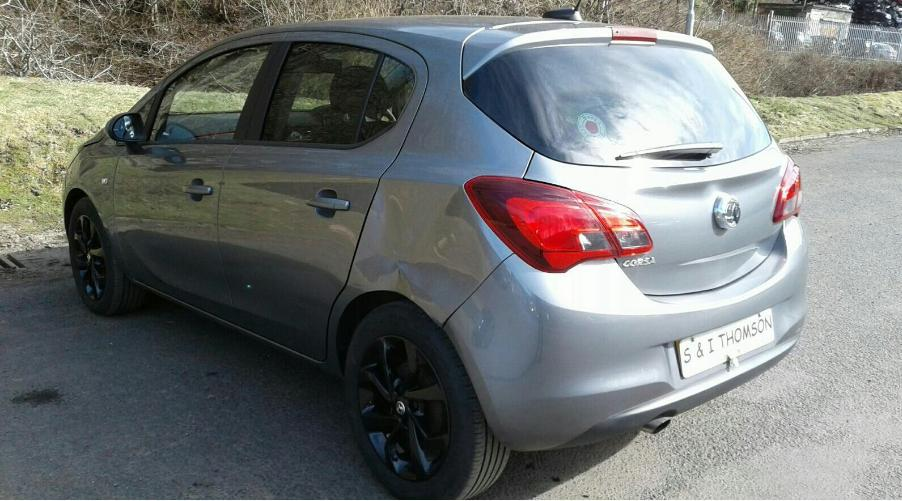Back-bumper: (443, 215, 808, 451)
Back-door: (217, 31, 428, 361)
Back-wheel: (343, 298, 511, 499)
Back-window: (260, 41, 414, 144)
Back-windshield: (463, 45, 771, 167)
Fender: (66, 134, 125, 269)
Front-door: (113, 32, 287, 323)
Front-wheel: (68, 198, 147, 314)
Front-window: (146, 44, 272, 142), (136, 96, 154, 124)
License-plate: (675, 308, 775, 378)
Mirror: (105, 113, 145, 154)
Quarter-panel: (326, 137, 534, 365)
Rocker-panel: (120, 270, 342, 379)
Roof: (220, 15, 601, 55)
Tail-light: (464, 176, 653, 274), (773, 161, 801, 223)
Trunk: (524, 136, 793, 295), (463, 24, 713, 78)
